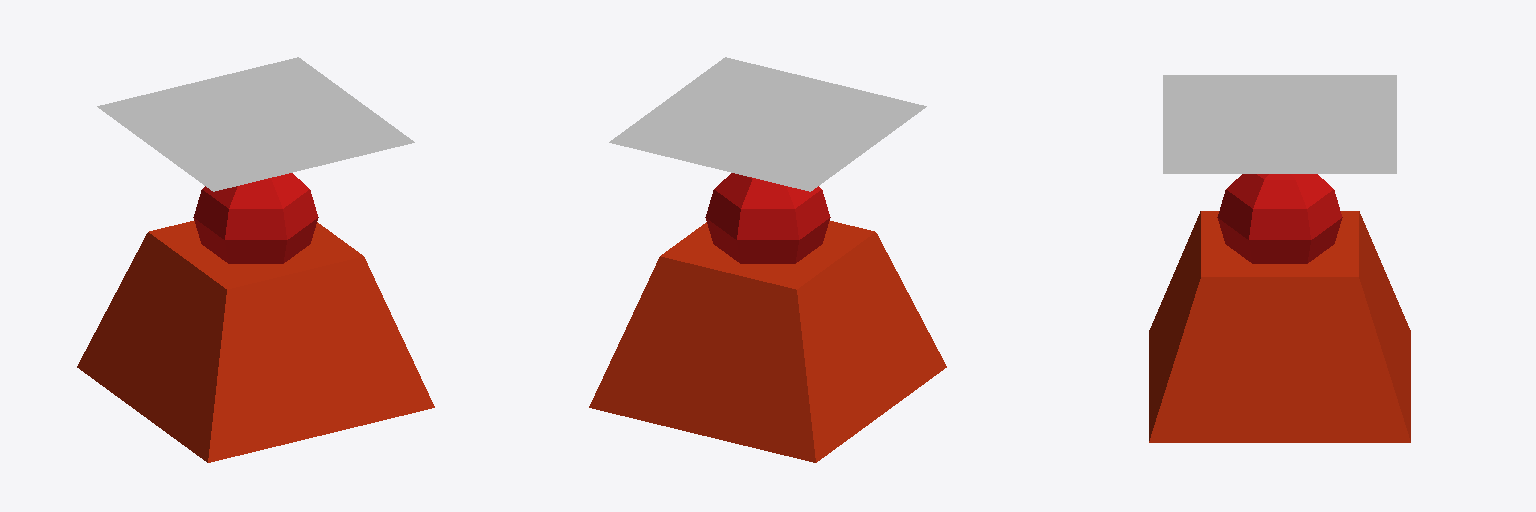
The model's file is light.obj.
3 renders of one model, left to right at view 1: azimuth 30°, elevation 25°; view 2: azimuth 150°, elevation 25°; view 3: azimuth 270°, elevation 25°, orthographic.
Visible parts, largest first — view 1: Cube, Plane, Sphere; view 2: Cube, Plane, Sphere; view 3: Cube, Plane, Sphere.
Boxes of the visible parts, x1=… form: Cube: x1=77, y1=221, x2=434, y2=462; Plane: x1=97, y1=57, x2=414, y2=191; Sphere: x1=193, y1=173, x2=318, y2=263; Cube: x1=589, y1=221, x2=946, y2=462; Plane: x1=609, y1=57, x2=926, y2=191; Sphere: x1=705, y1=173, x2=830, y2=263; Cube: x1=1149, y1=211, x2=1410, y2=442; Plane: x1=1163, y1=75, x2=1396, y2=173; Sphere: x1=1217, y1=174, x2=1342, y2=263.
Bounding box in the file's own units: 3.32 × 3.67 × 3.32.